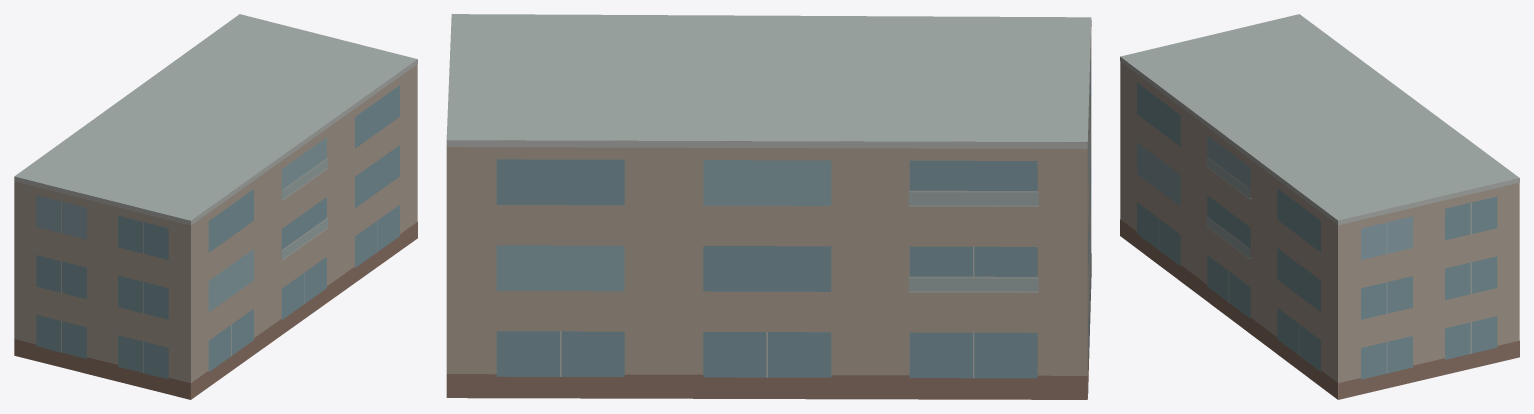
Rendered from survey-upis-32722771.glb.
3 views of the same model, side by side, from view 1: azimuth 30°, elevation 25°; view 2: azimuth 150°, elevation 25°; view 3: azimuth 270°, elevation 25° (orthographic). The views are drawn at different scales.
Visible parts, largest first — view 1: survey-upis-32722771.tmp; view 2: survey-upis-32722771.tmp; view 3: survey-upis-32722771.tmp.
Part boxes in pixels (x1,y1,x2,y2): survey-upis-32722771.tmp: (14, 14, 417, 399); survey-upis-32722771.tmp: (446, 14, 1091, 399); survey-upis-32722771.tmp: (1120, 14, 1519, 399).
Bounding box in the file's own units: 22.61 × 9.15 × 18.49.
